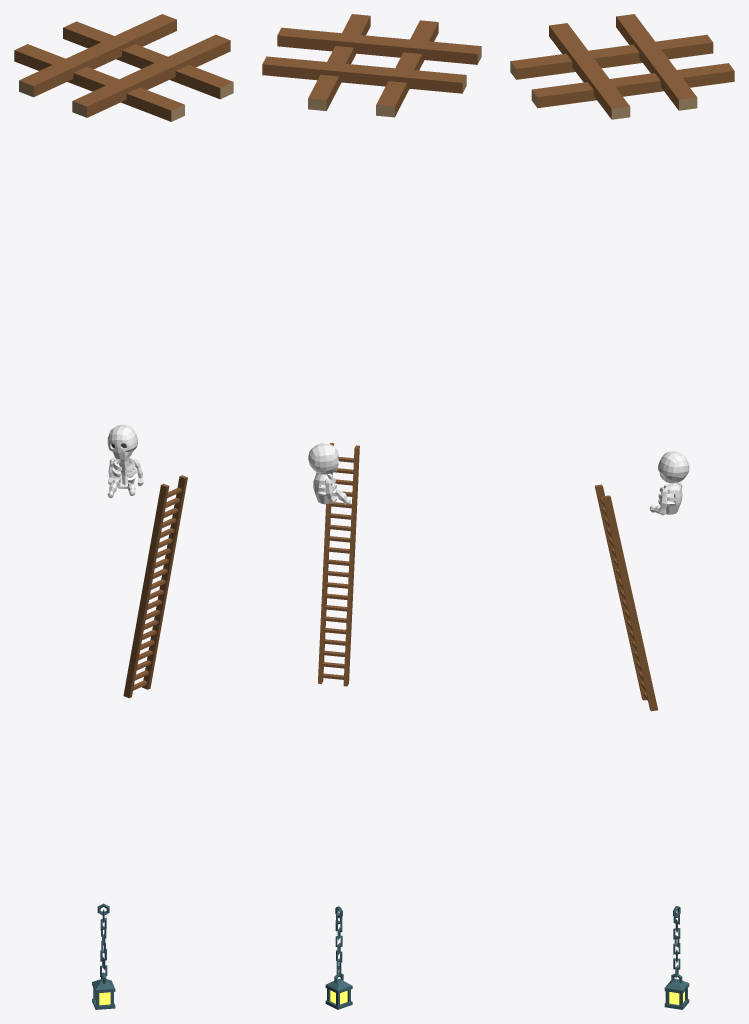
The picture shows the model from 3 angles, left to right: view 1: azimuth 30°, elevation 25°; view 2: azimuth 150°, elevation 25°; view 3: azimuth 270°, elevation 25°; orthographic projection. The views are drawn at different scales.
Parts seen in each view (by area): view 1: Box458_brown_0, Box395_brown_0, Head116_white_0, Box458_brown2_0, Sphere212_white_0, Box15900_metal_0; view 2: Box458_brown_0, Box395_brown_0, Head116_white_0, Box458_brown2_0, Box15900_metal_0; view 3: Box458_brown_0, Box395_brown_0, Head116_white_0, Box458_brown2_0, Box15900_metal_0.
Boxes of the visible parts, left/top/right/bottom form: Box458_brown_0: left=14, top=14, right=232, bottom=121; Box395_brown_0: left=123, top=475, right=187, bottom=698; Head116_white_0: left=107, top=424, right=137, bottom=459; Box458_brown2_0: left=19, top=80, right=233, bottom=121; Sphere212_white_0: left=112, top=457, right=137, bottom=488; Box15900_metal_0: left=92, top=979, right=115, bottom=1009; Box458_brown_0: left=262, top=14, right=481, bottom=116; Box395_brown_0: left=318, top=443, right=359, bottom=686; Head116_white_0: left=308, top=443, right=338, bottom=474; Box458_brown2_0: left=308, top=46, right=481, bottom=117; Box15900_metal_0: left=325, top=978, right=352, bottom=1009; Box458_brown_0: left=510, top=14, right=734, bottom=118; Box395_brown_0: left=594, top=484, right=657, bottom=711; Head116_white_0: left=658, top=451, right=689, bottom=483; Box458_brown2_0: left=510, top=61, right=697, bottom=119; Box15900_metal_0: left=664, top=979, right=689, bottom=1009.
Bounding box in the file's own units: 464 × 2146 × 464.
